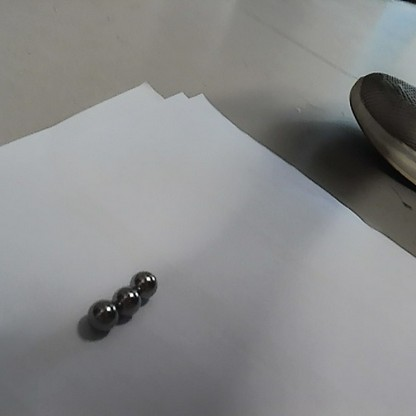ironball: (83, 298, 118, 333), (111, 286, 143, 319), (128, 269, 161, 298)
